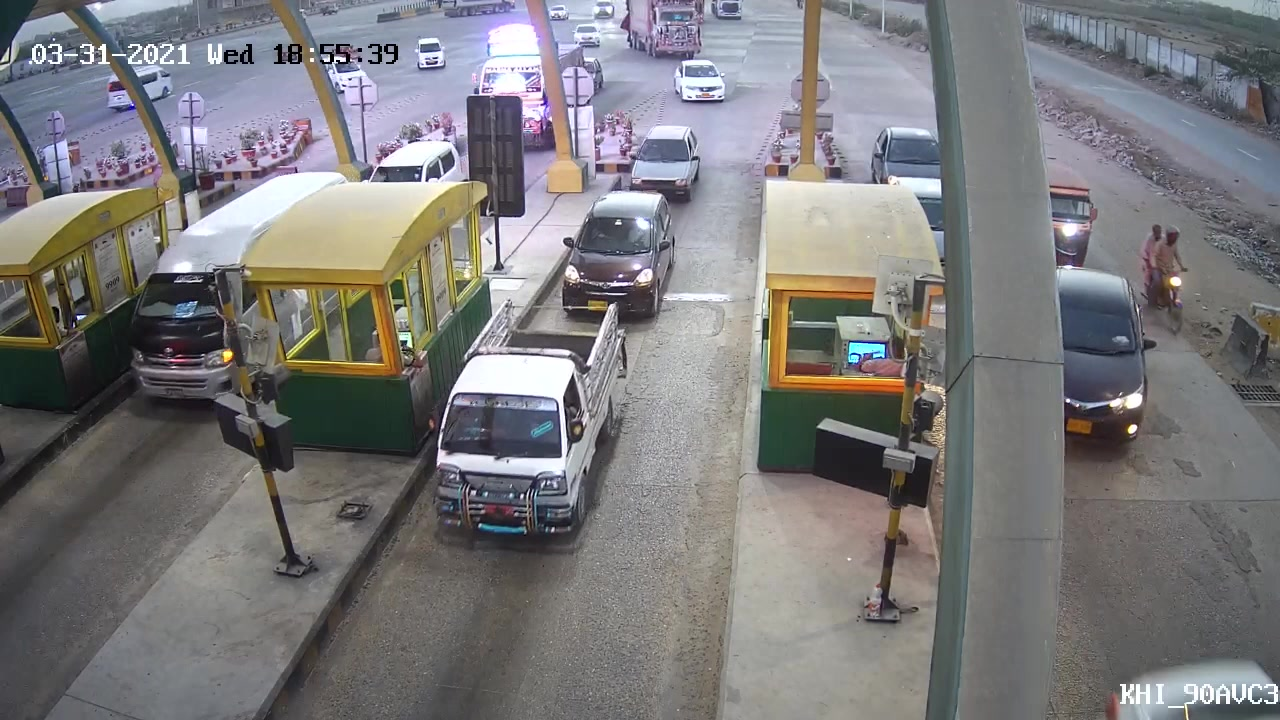F2: (423, 301, 632, 542)
